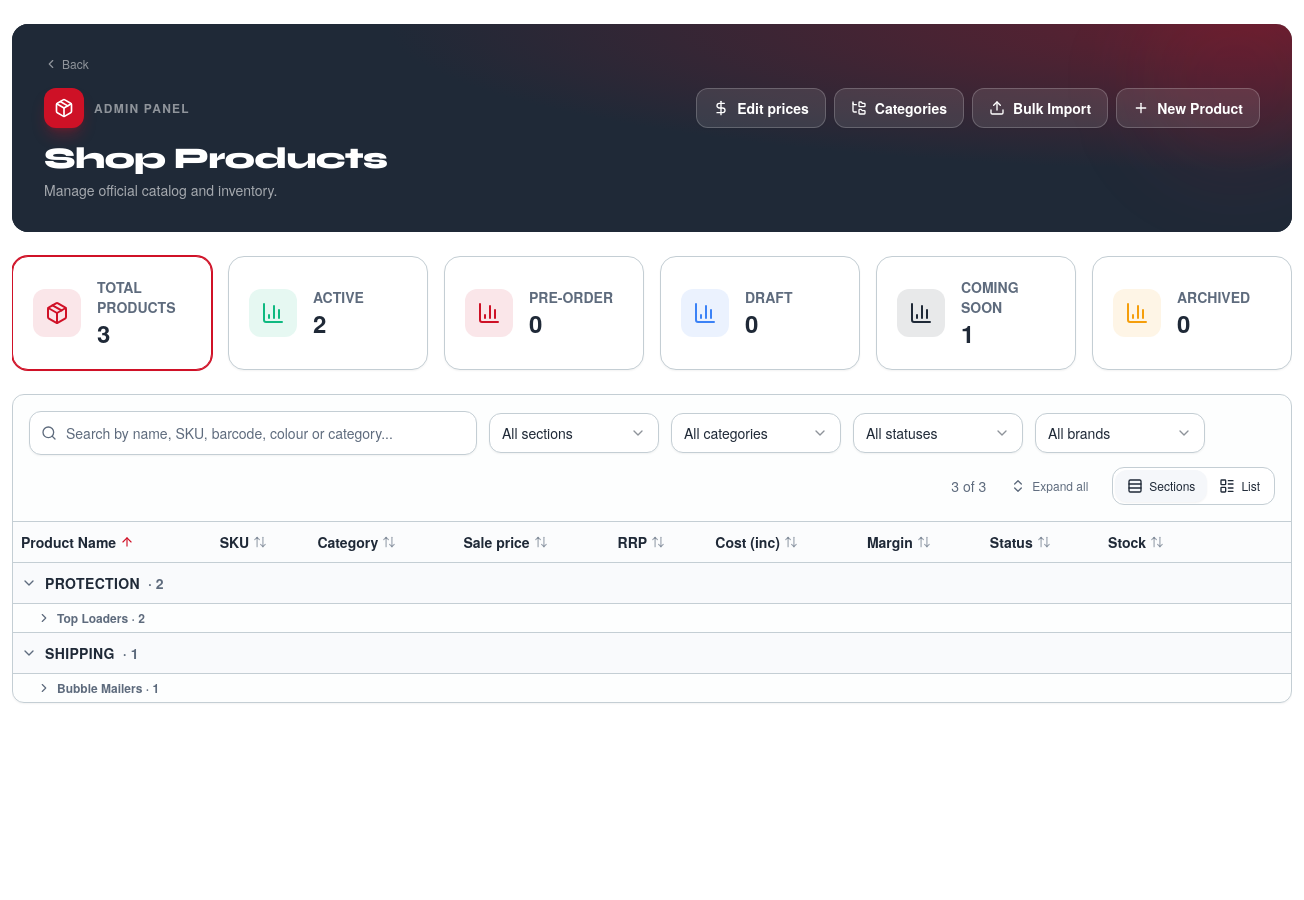
ProductManagementPage filters, sorting and sections › filters by status from the summary cards, showing the matches, and can clear it
The width and height of the screenshot is (1304, 900).
Expected: the button "Protection · 2" is shown, left=13, top=562, right=1291, bottom=602
Categories start closed, but a filter opens them so the matches are visible.
Click the button "Coming Soon 1": click(976, 313) left=876, top=256, right=1076, bottom=370
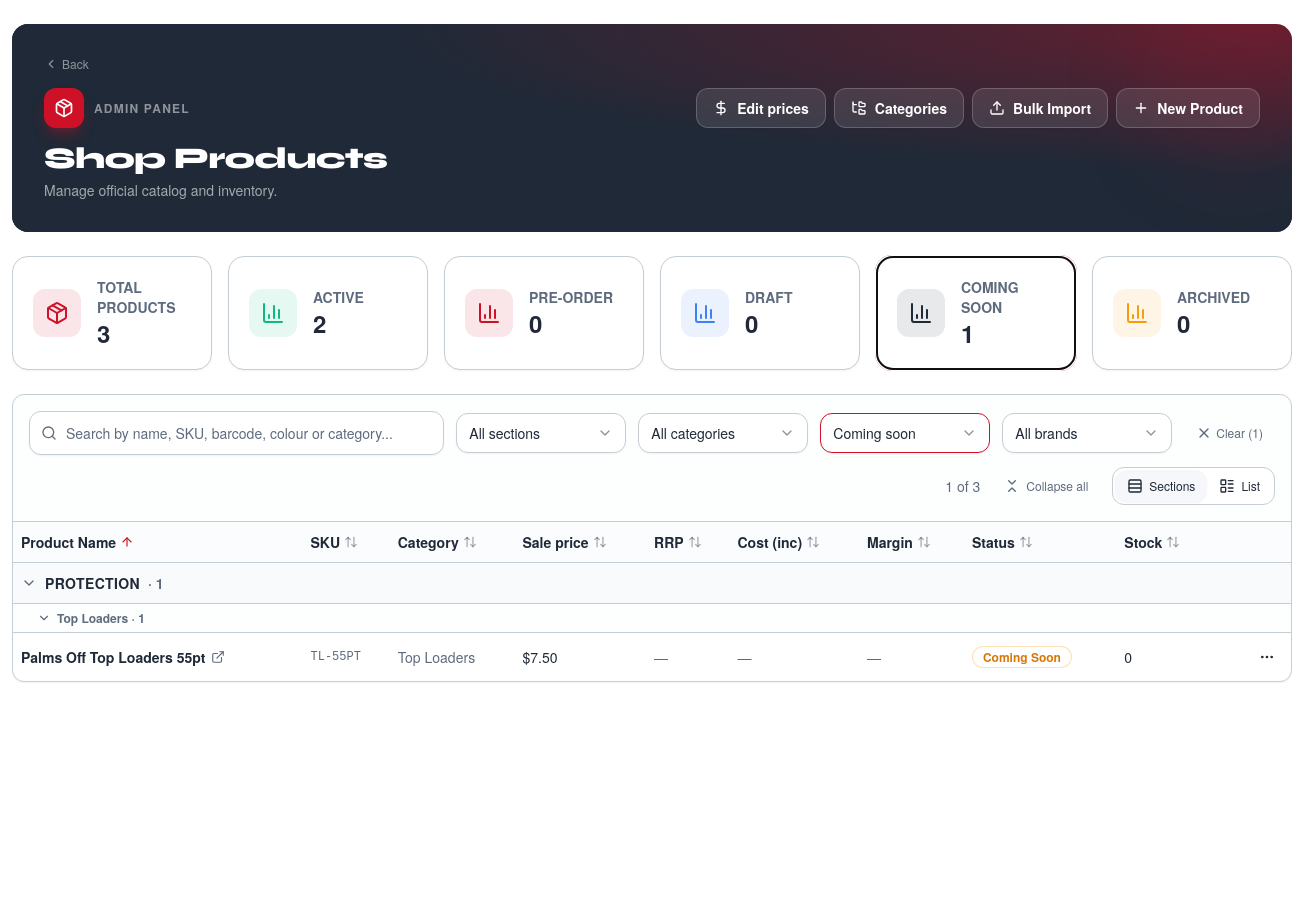
Now the text "1 of 3" is shown, box left=945, top=476, right=980, bottom=496
Click the button "Clear (1)": click(1230, 433) left=1184, top=413, right=1275, bottom=453
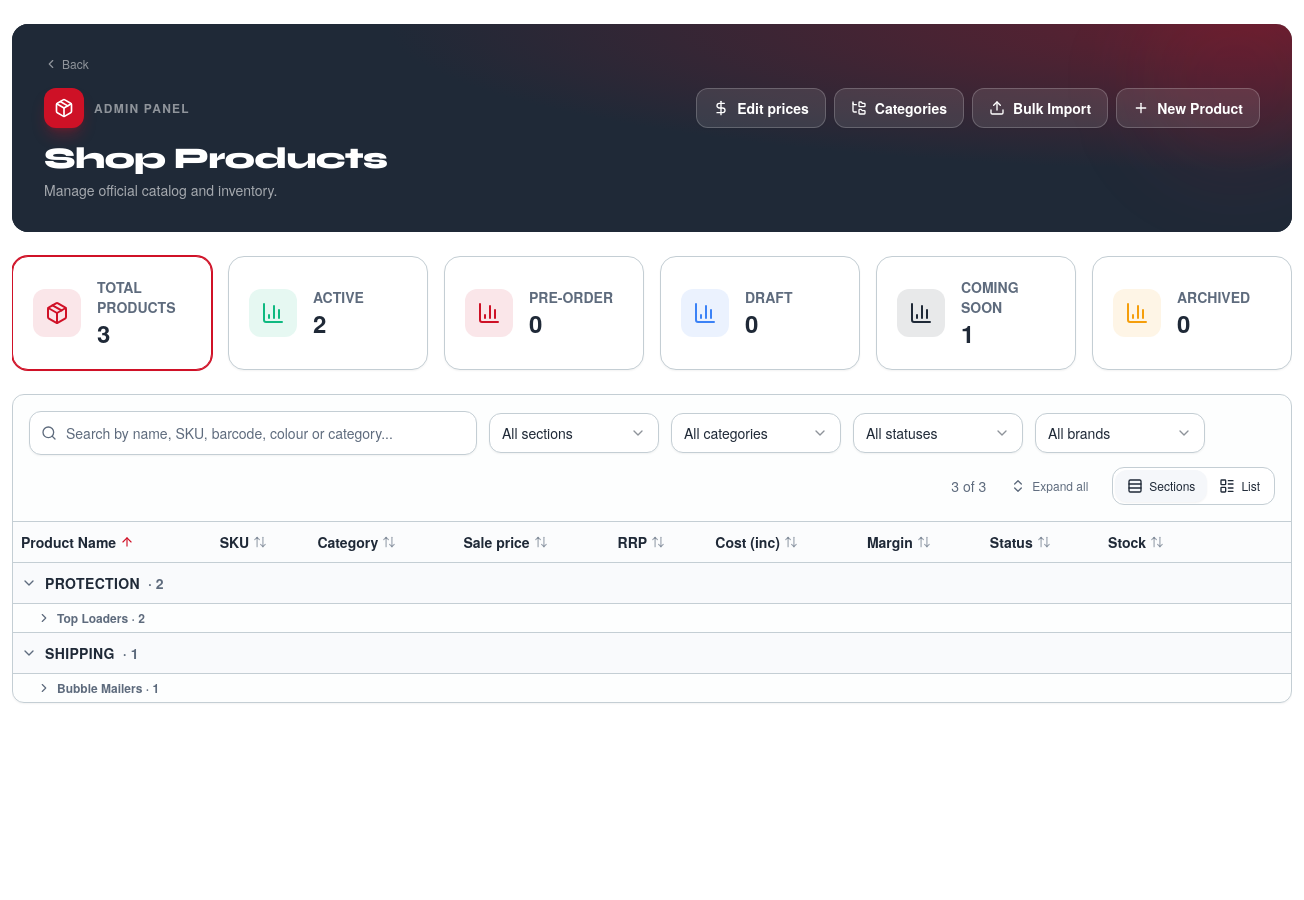
Now the text "3 of 3" is shown, box left=951, top=476, right=986, bottom=496
